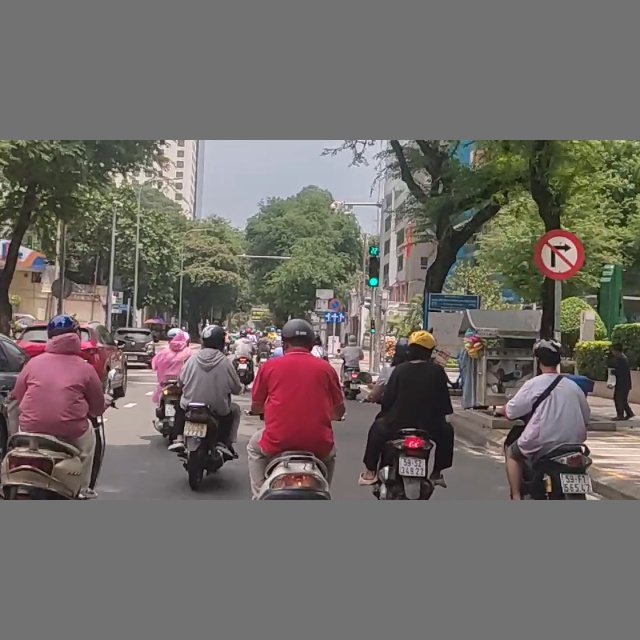P.123b: (536, 229, 583, 277)
P.131a: (328, 297, 344, 311)
